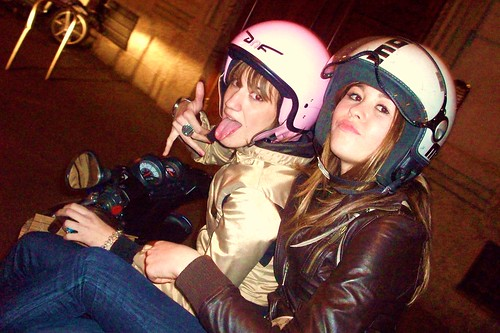helmet: (319, 40, 468, 188), (203, 14, 325, 139)
